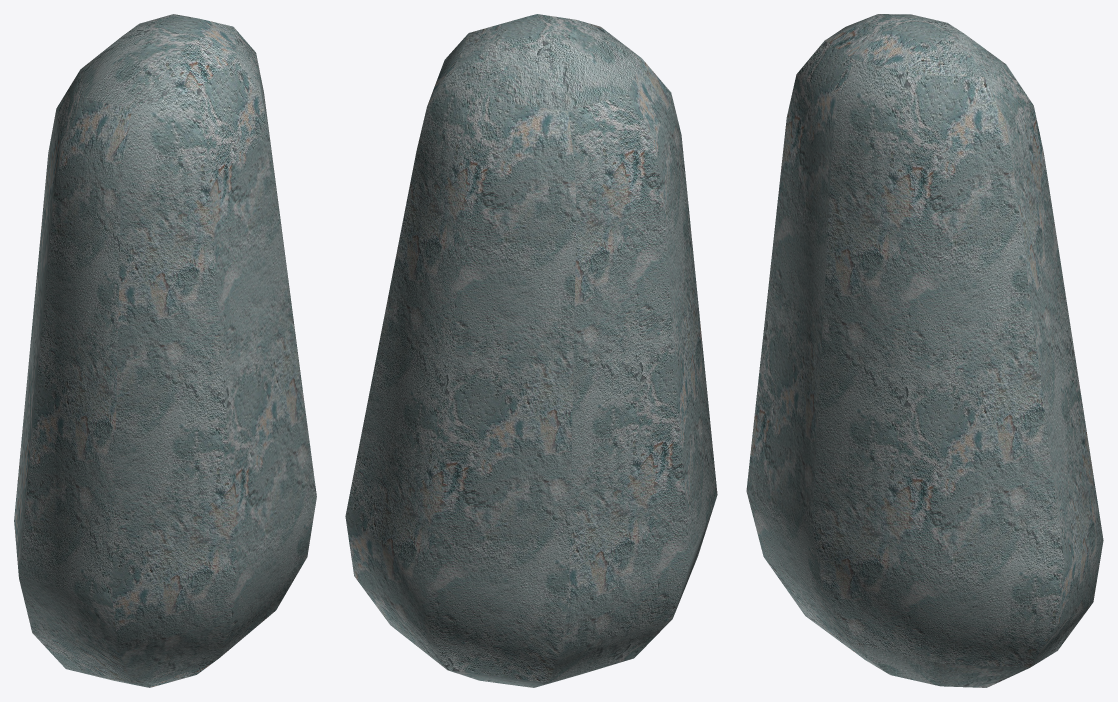
Rendered from Dino_Egg_02.DAE.
3 renders of one model, left to right at view 1: azimuth 30°, elevation 25°; view 2: azimuth 150°, elevation 25°; view 3: azimuth 270°, elevation 25°, orthographic. The views are drawn at different scales.
Parts seen in each view (by area): view 1: DinoEggTwo300; view 2: DinoEggTwo300; view 3: DinoEggTwo300.
Boxes of the visible parts, <box> form: DinoEggTwo300: <box>14,14,316,687</box>; DinoEggTwo300: <box>345,14,717,687</box>; DinoEggTwo300: <box>746,14,1103,687</box>.
Size of what is drawn, in the model's own units: 0.2753 by 0.2753 by 0.5553.
